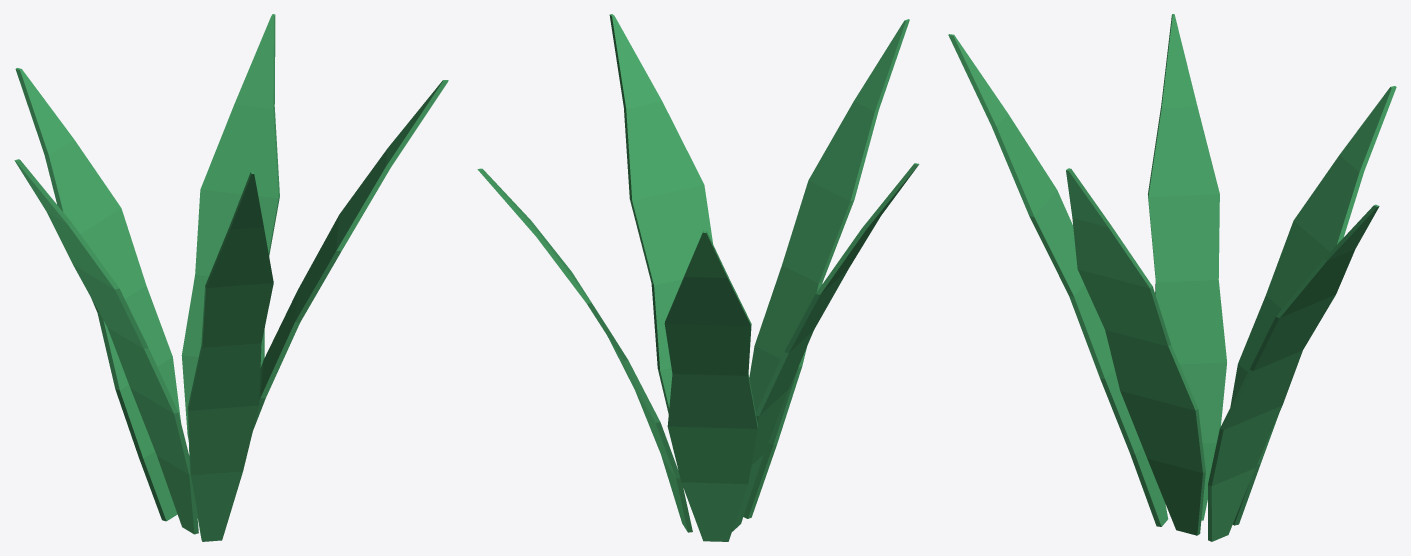
The model's file is plant_002b_broad_seaweed.glb.
3 renders of one model, left to right at view 1: azimuth 30°, elevation 25°; view 2: azimuth 150°, elevation 25°; view 3: azimuth 270°, elevation 25°, orthographic. The views are drawn at different scales.
Parts seen in each view (by area): view 1: plant_002b_broad_seaweed__mesh; view 2: plant_002b_broad_seaweed__mesh; view 3: plant_002b_broad_seaweed__mesh.
Part boxes in pixels (x1,y1,x2,y2): plant_002b_broad_seaweed__mesh: (14,14,448,541); plant_002b_broad_seaweed__mesh: (477,14,919,541); plant_002b_broad_seaweed__mesh: (948,14,1396,541).
Bounding box in the file's own units: 1.12 × 1.3 × 1.16.
